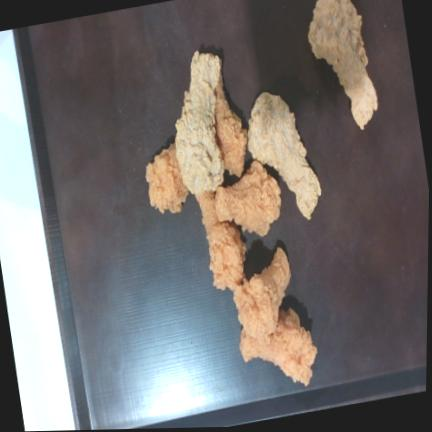chicken: (248, 92, 321, 219), (308, 0, 377, 129), (175, 51, 224, 195), (240, 308, 317, 385), (234, 247, 291, 341), (215, 160, 281, 236), (196, 192, 246, 290), (146, 143, 189, 213)
